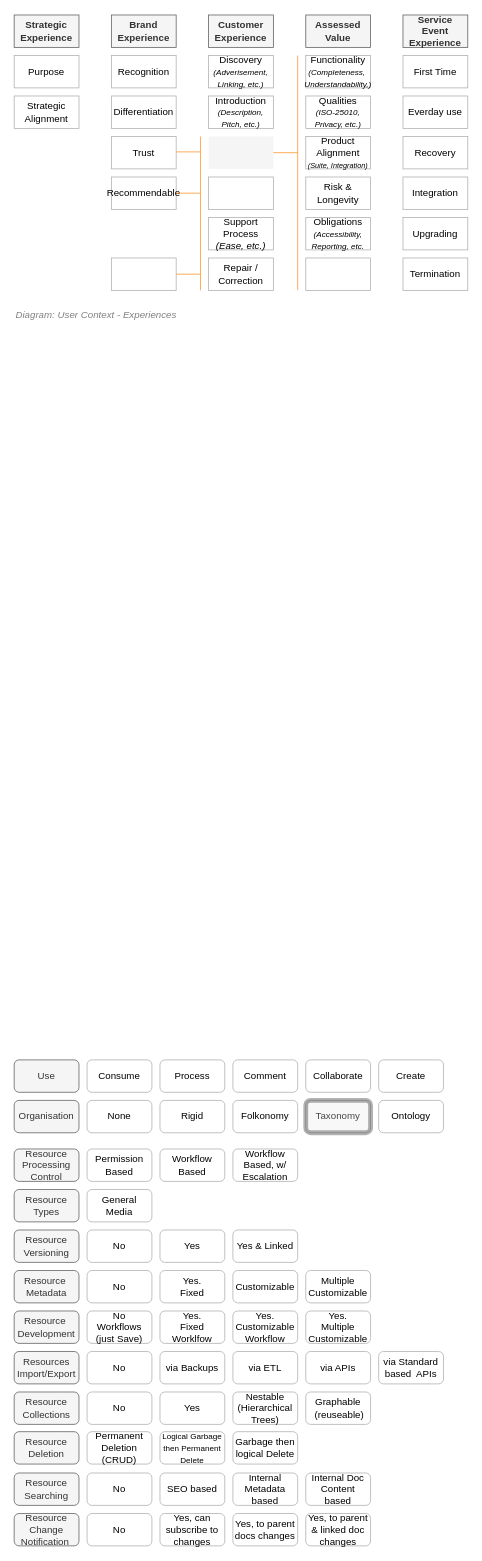
The diagram is 482 pixels wide and 1561 high, and some of its shapes have lost their labels. Each missing label, with the centre of its shape:
"Customer Assessment" belongs at pixel 240 152.
"Loyalty / Retention" belongs at pixel 143 273.
"Sales Process (Ease etc.)" belongs at pixel 240 192.
"Short & Long term Costs (Licenses, etc.)" belongs at pixel 338 273.
